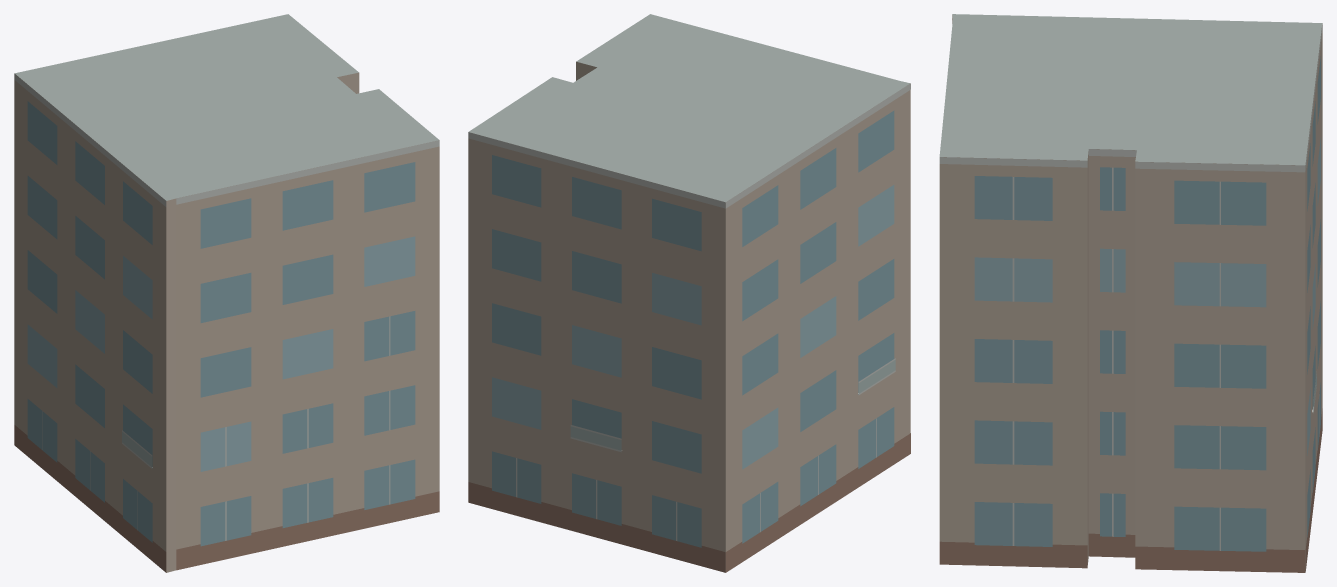
File: survey-upis-32665298.glb
3 views of the same model, side by side, from view 1: azimuth 30°, elevation 25°; view 2: azimuth 150°, elevation 25°; view 3: azimuth 270°, elevation 25° (orthographic). The views are drawn at different scales.
Parts seen in each view (by area): view 1: survey-upis-32665298.tmp; view 2: survey-upis-32665298.tmp; view 3: survey-upis-32665298.tmp.
Part boxes in pixels (x1,y1,x2,y2): survey-upis-32665298.tmp: (14,14,439,572); survey-upis-32665298.tmp: (468,14,910,572); survey-upis-32665298.tmp: (939,14,1322,572).
Size of the model in its own units: 11.32 by 14.2 by 12.1.
